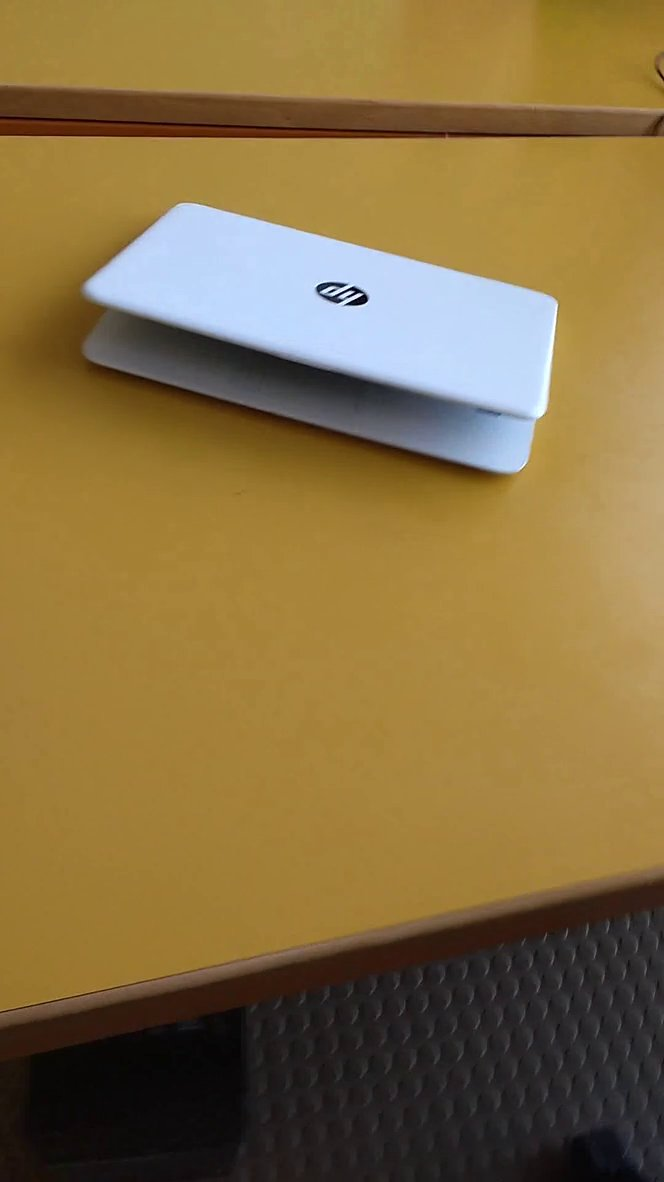laptop: (65, 170, 574, 509)
